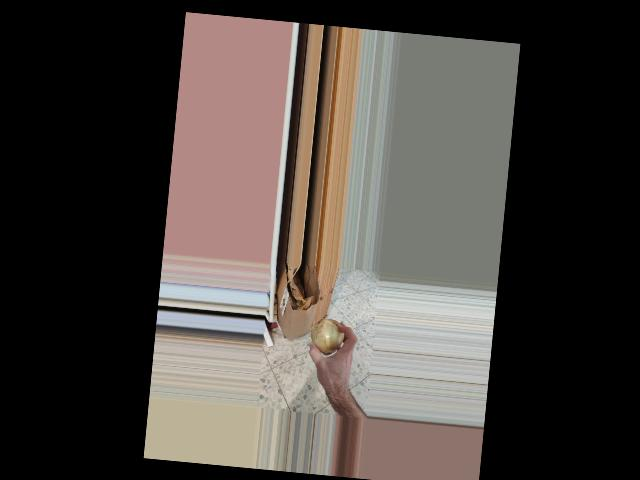onion: (308, 310, 348, 358)
